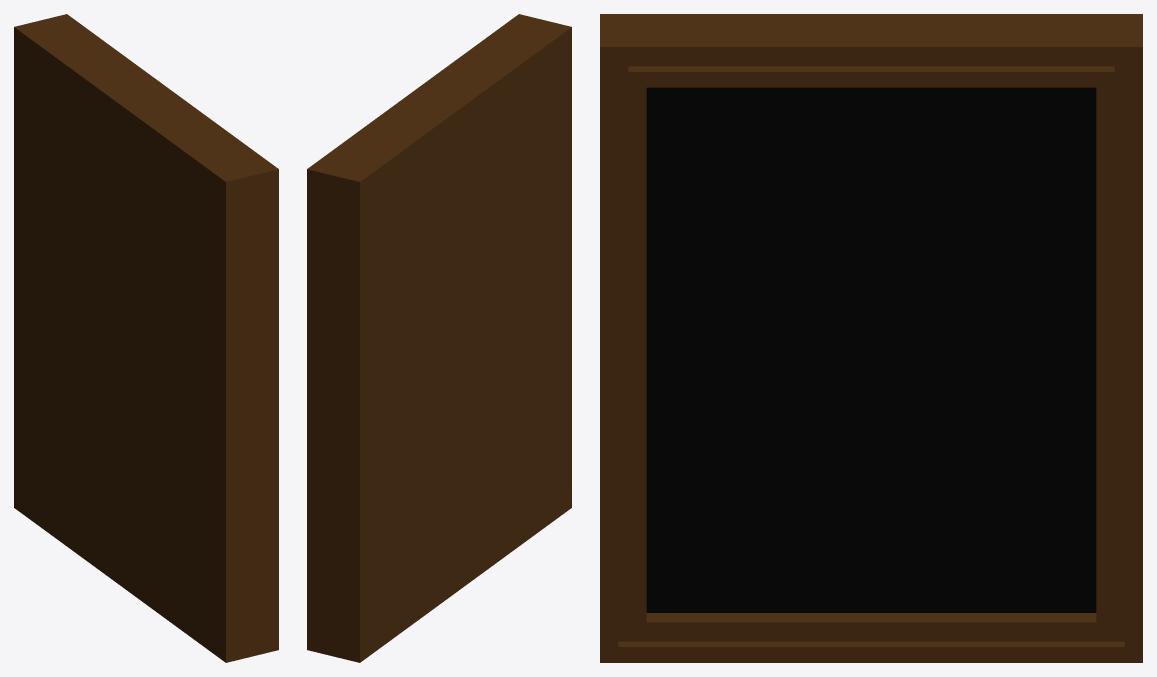
File: Pigora 2.fbx
3 renders of one model, left to right at view 1: azimuth 30°, elevation 25°; view 2: azimuth 150°, elevation 25°; view 3: azimuth 270°, elevation 25°, orthographic. The views are drawn at different scales.
Visible parts, largest first — view 1: Plane.003; view 2: Plane.003; view 3: Plane.003.
Part boxes in pixels (x1,y1,x2,y2): Plane.003: (14,14,278,662); Plane.003: (307,14,571,662); Plane.003: (600,14,1142,662).
Size of the model in its own units: 53.75 by 466 by 373.
